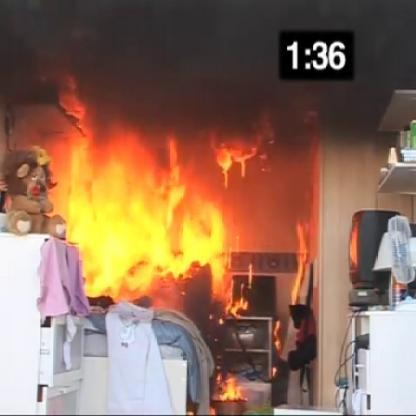fire: (64, 123, 217, 311), (208, 110, 269, 190), (286, 220, 316, 325), (209, 261, 247, 331), (209, 369, 252, 416)
